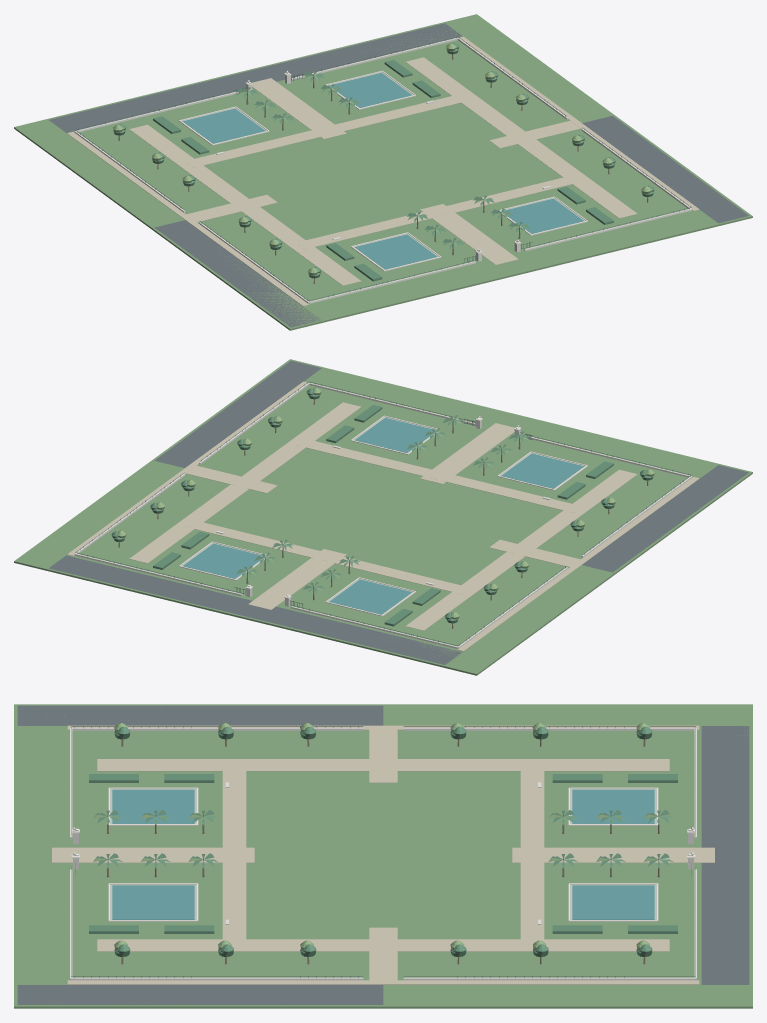
The model's file is VictoriaMemorial_Grounds.fbx.
The picture shows the model from 3 angles, top to bottom: view 1: azimuth 30°, elevation 25°; view 2: azimuth 150°, elevation 25°; view 3: azimuth 270°, elevation 25°; orthographic projection. The views are drawn at different scales.
Visible parts, largest first — view 1: CampusGround.001_Export, CampusGround.002_Export, CampusGround_Export, CampusGround.003_Export, PerimeterRoad.001_Export, PerimeterRoad_Export, PerimeterRoad.002_Export, SidePromenade.001_Export, SidePromenade_Export, TerracePromenade_Export, TerracePromenade.001_Export, PerimeterFootpath_Export (+9 smaller); view 2: CampusGround_Export, CampusGround.002_Export, CampusGround.003_Export, CampusGround.001_Export, PerimeterRoad.001_Export, PerimeterRoad_Export, PerimeterRoad.002_Export, SidePromenade.001_Export, SidePromenade_Export, TerracePromenade.001_Export, TerracePromenade_Export, PerimeterFootpath_Export (+9 smaller); view 3: CampusGround.002_Export, CampusGround_Export, CampusGround.003_Export, CampusGround.001_Export, PerimeterRoad.001_Export, PerimeterRoad_Export, PerimeterRoad.002_Export, SidePromenade_Export, SidePromenade.001_Export, TerracePromenade.001_Export, TerracePromenade_Export, PerimeterFootpath.001_Export (+13 smaller).
Part boxes in pixels (x1,y1,x2,y2): CampusGround.001_Export: [152, 171, 521, 330]; CampusGround.002_Export: [246, 14, 614, 171]; CampusGround_Export: [14, 70, 382, 229]; CampusGround.003_Export: [384, 115, 752, 273]; PerimeterRoad.001_Export: [49, 23, 462, 132]; PerimeterRoad_Export: [154, 220, 320, 327]; PerimeterRoad.002_Export: [582, 116, 748, 223]; SidePromenade.001_Export: [405, 57, 637, 218]; SidePromenade_Export: [129, 124, 361, 285]; TerracePromenade_Export: [185, 93, 470, 167]; TerracePromenade.001_Export: [296, 175, 581, 249]; PerimeterFootpath_Export: [67, 132, 309, 306]; CampusGround_Export: [245, 516, 614, 675]; CampusGround.002_Export: [14, 460, 382, 618]; CampusGround.003_Export: [152, 359, 520, 516]; CampusGround.001_Export: [384, 415, 752, 574]; PerimeterRoad.001_Export: [49, 555, 462, 664]; PerimeterRoad_Export: [450, 465, 748, 662]; PerimeterRoad.002_Export: [154, 360, 321, 467]; SidePromenade.001_Export: [129, 402, 361, 563]; SidePromenade_Export: [405, 469, 637, 630]; TerracePromenade.001_Export: [296, 438, 581, 512]; TerracePromenade_Export: [185, 520, 470, 594]; PerimeterFootpath_Export: [457, 477, 699, 651]; CampusGround.002_Export: [383, 855, 752, 1008]; CampusGround_Export: [383, 704, 752, 855]; CampusGround.003_Export: [14, 855, 383, 1008]; CampusGround.001_Export: [14, 704, 383, 855]; PerimeterRoad.001_Export: [701, 726, 749, 984]; PerimeterRoad_Export: [17, 705, 383, 725]; PerimeterRoad.002_Export: [17, 985, 383, 1004]; SidePromenade_Export: [97, 759, 669, 771]; SidePromenade.001_Export: [97, 939, 669, 951]; TerracePromenade.001_Export: [222, 764, 246, 945]; TerracePromenade_Export: [520, 764, 544, 945]; PerimeterFootpath.001_Export: [67, 980, 699, 984].
Size of the model in its own units: 600 by 23.1 by 620.
